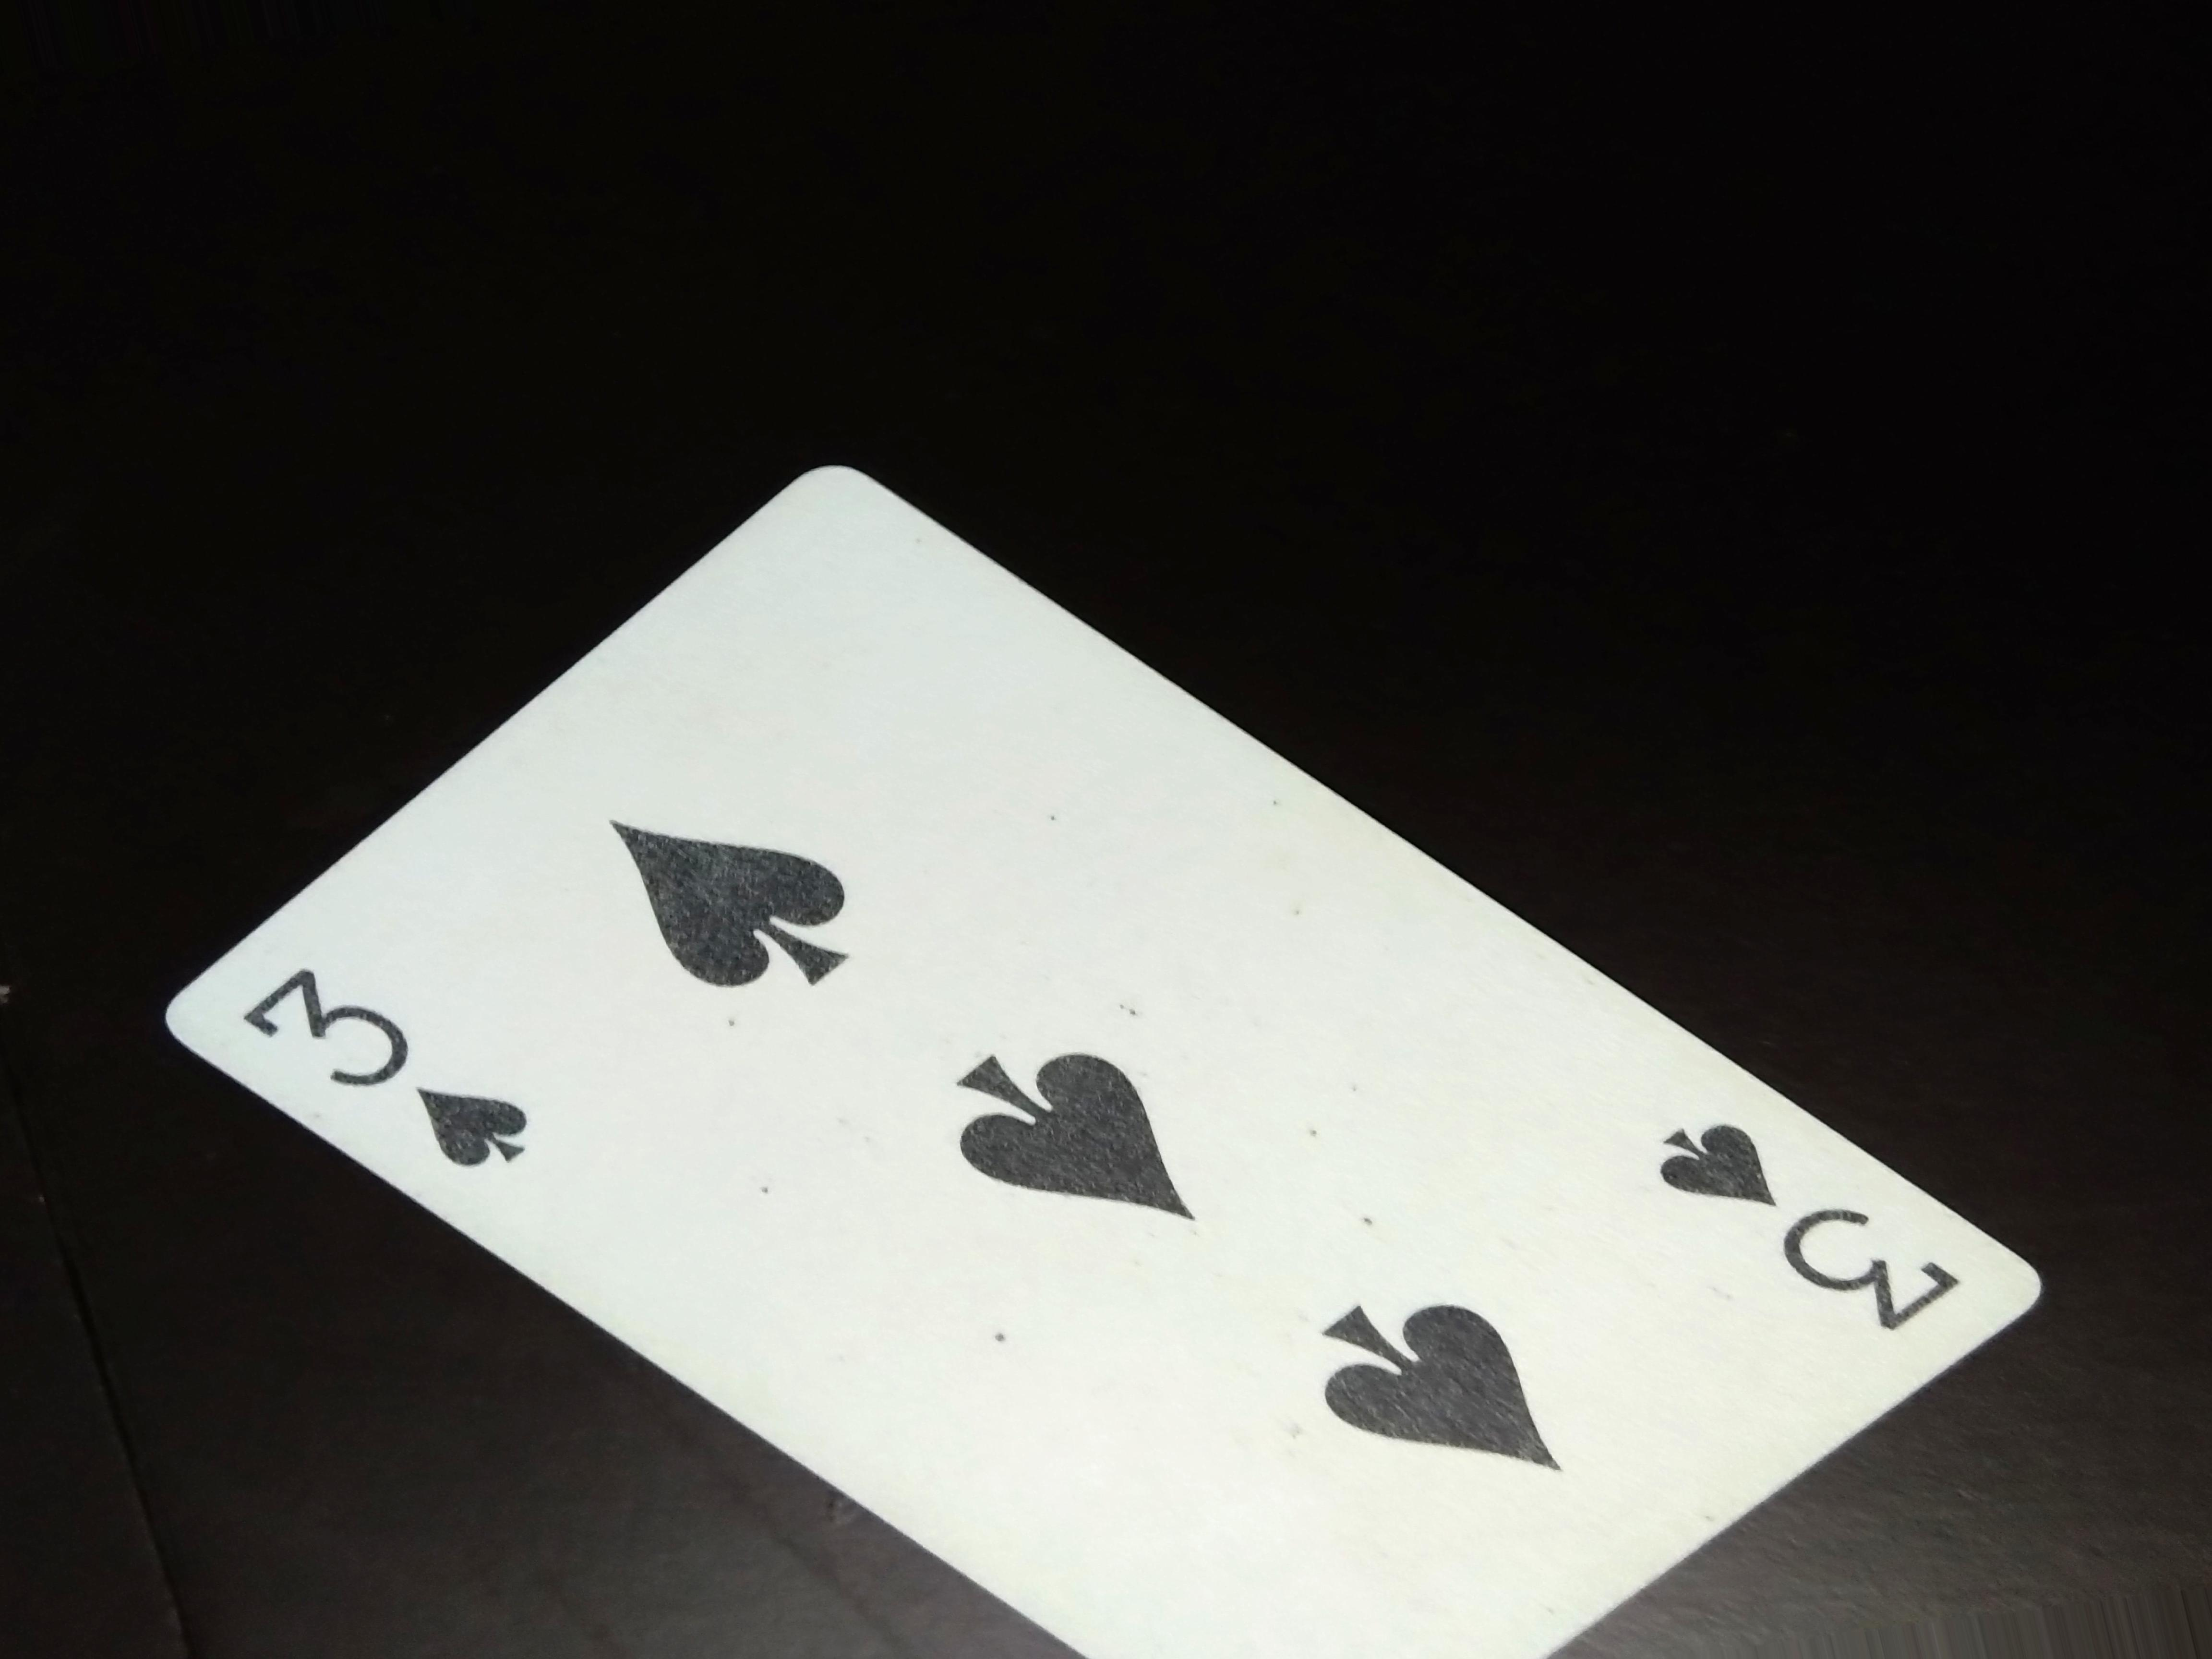3S: (1641, 1112, 1998, 1351)
